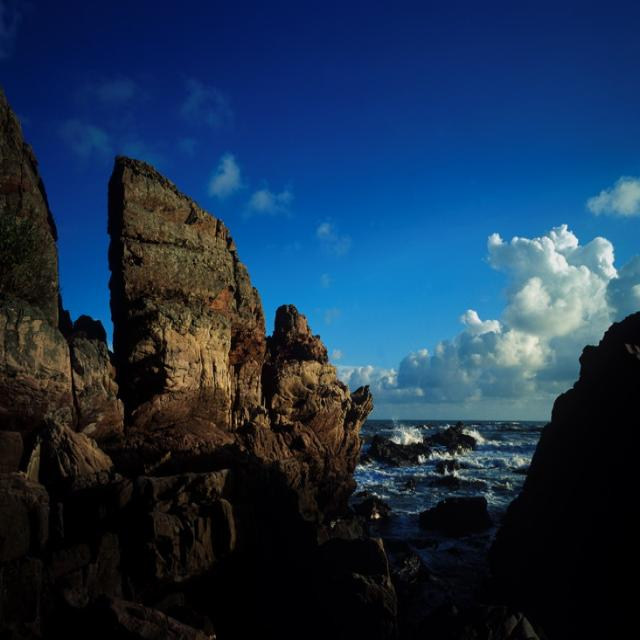reef: (377, 398, 505, 533)
